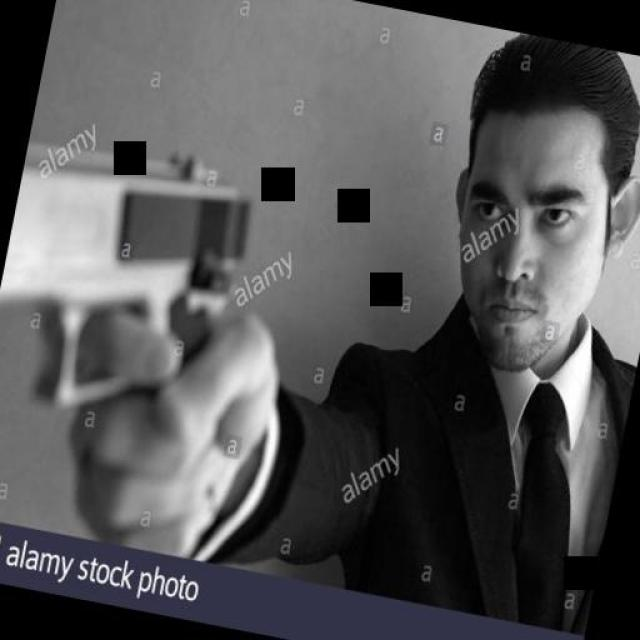gun: (0, 115, 270, 441)
